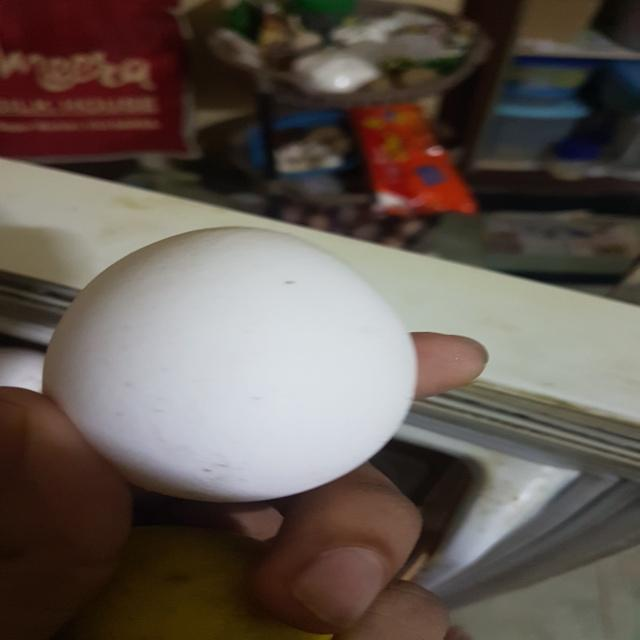eggs: (35, 210, 426, 507)
